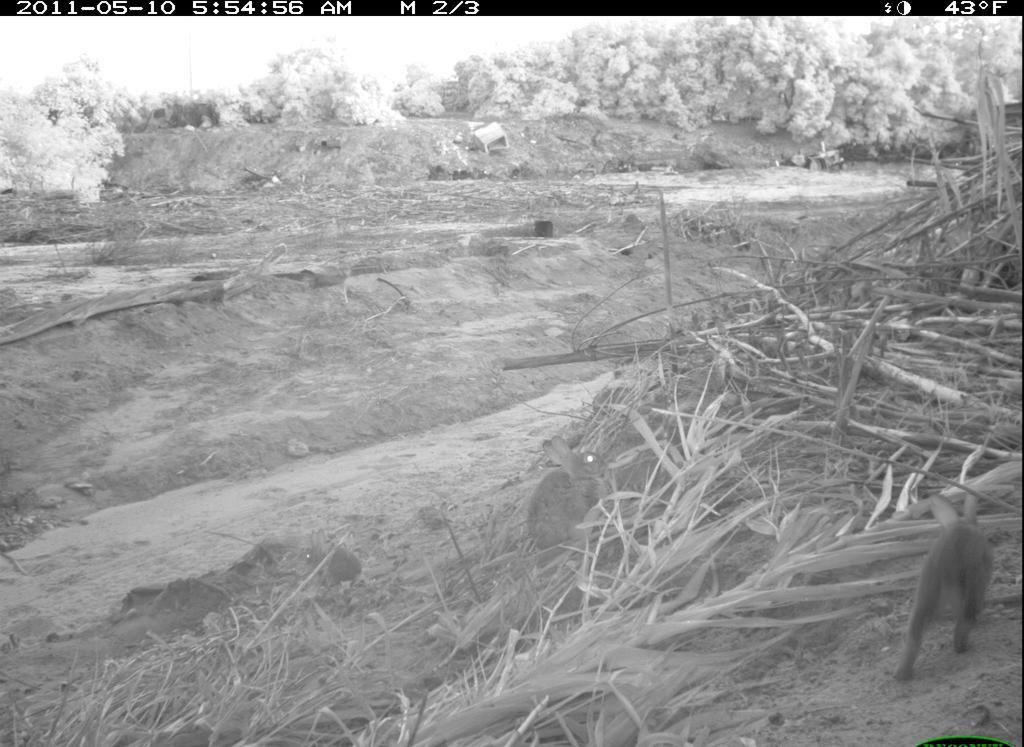rabbit: (301, 526, 368, 594)
